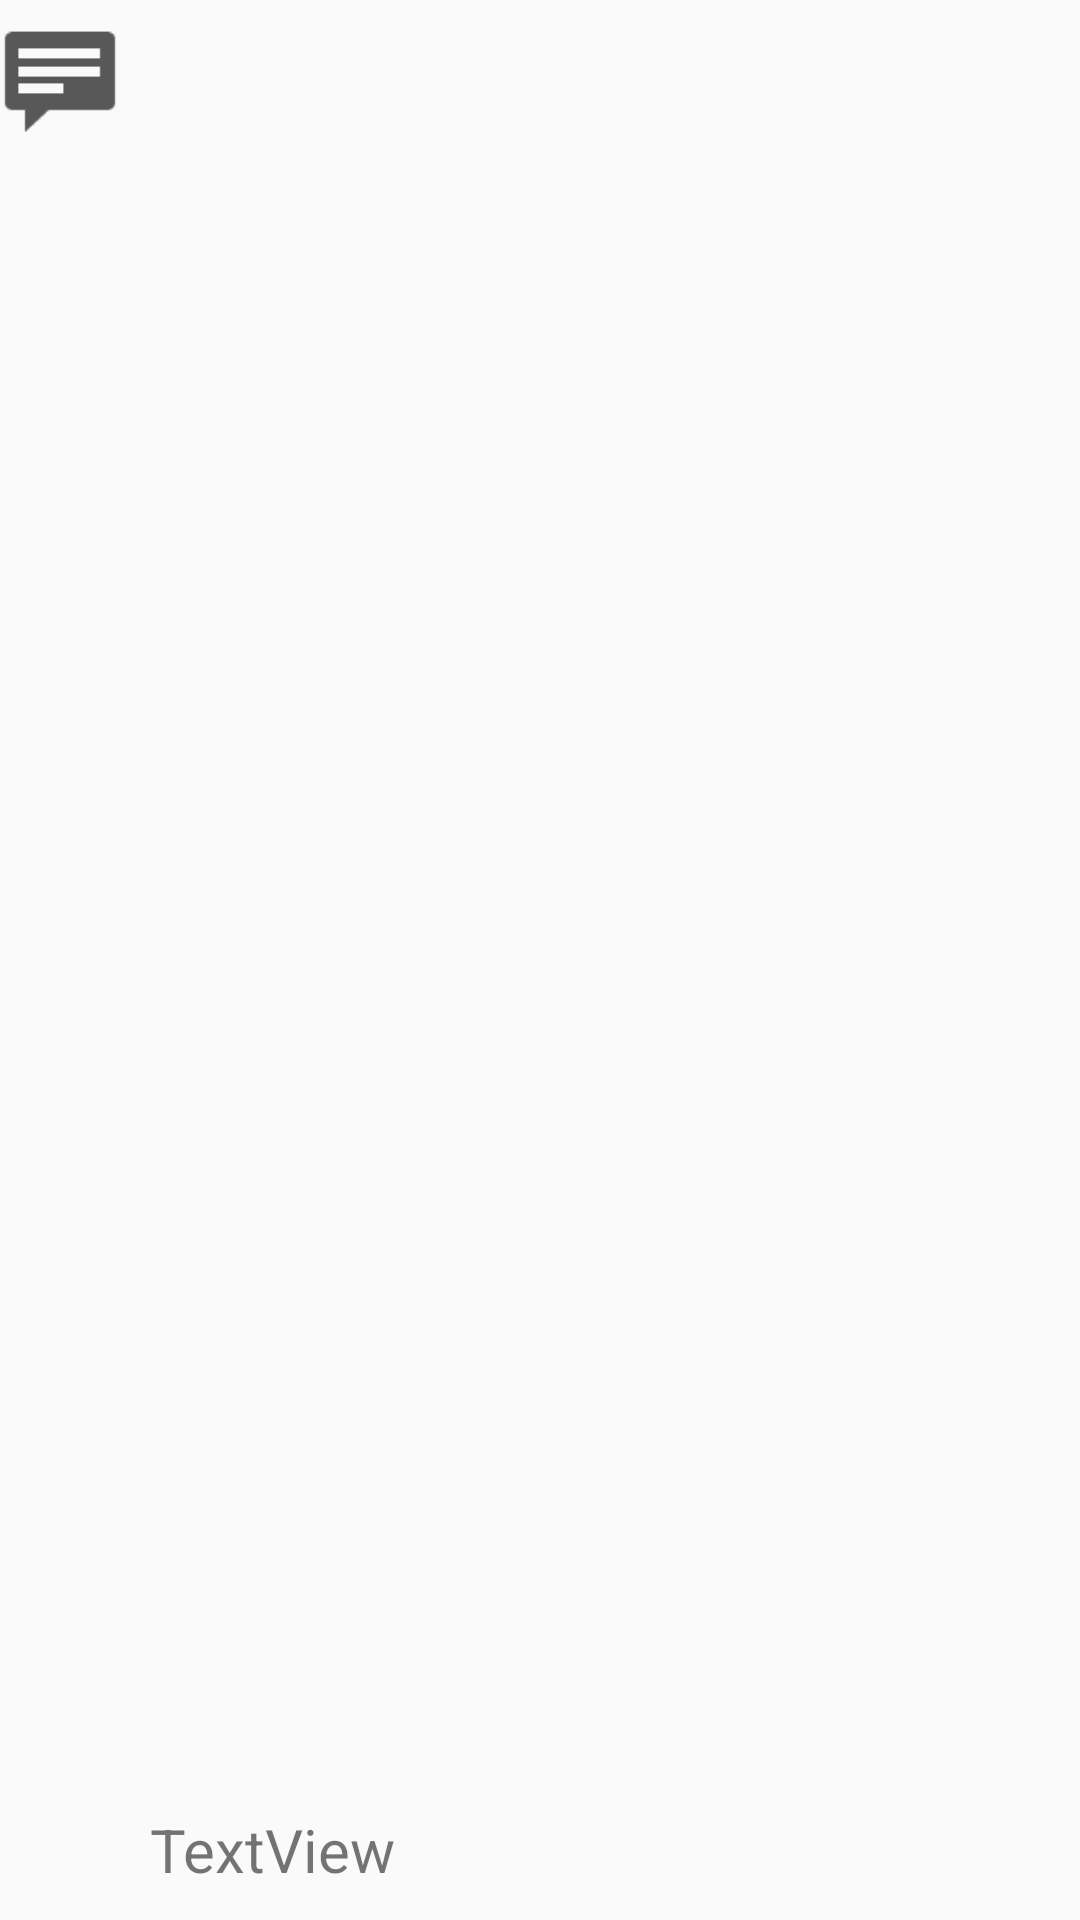

Locate icon controls on the screen. Image size 1080*1920, boxes as (x1, y1, x2, y2).
chat: (4, 31, 116, 132)
